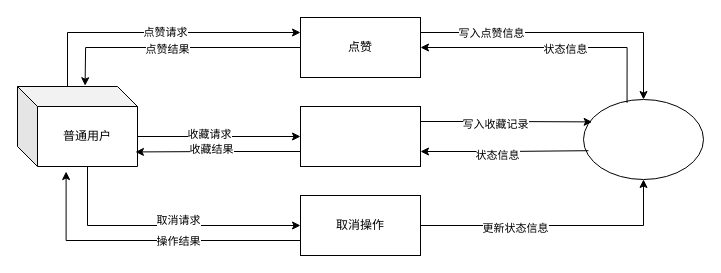
Some shapes in this 721 by 273 pixel diagram are drawn without their labels. The box of each missing label's shape, as (x1, y1, x2, y2) in pixels:
收藏: (300, 106, 420, 166)
点赞收藏信息表: (582, 98, 704, 180)
